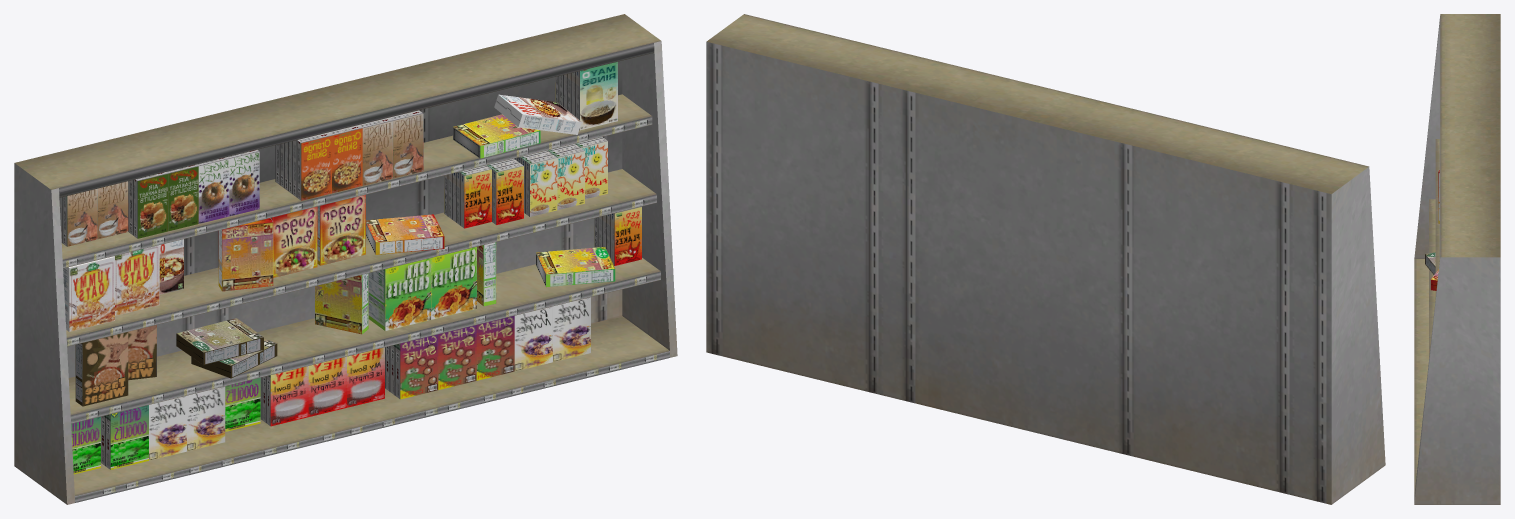
File: storeshelves2.fbx
3 views of the same model, side by side, from view 1: azimuth 30°, elevation 25°; view 2: azimuth 150°, elevation 25°; view 3: azimuth 270°, elevation 25° (orthographic). The views are drawn at different scales.
Visible parts, largest first — view 1: mesh_0, mesh_6, mesh_2, mesh_4, mesh_1, mesh_5, mesh_3; view 2: mesh_0; view 3: mesh_0, mesh_4, mesh_1.
Part boxes in pixels (x1=…): mesh_0: x1=14, y1=14, x2=677, y2=504; mesh_6: x1=59, y1=61, x2=641, y2=474; mesh_2: x1=315, y1=114, x2=615, y2=334; mesh_4: x1=218, y1=194, x2=444, y2=291; mesh_1: x1=75, y1=318, x2=277, y2=406; mesh_5: x1=63, y1=239, x2=183, y2=331; mesh_3: x1=494, y1=94, x2=581, y2=134; mesh_0: x1=706, y1=14, x2=1385, y2=504; mesh_0: x1=1414, y1=14, x2=1500, y2=504; mesh_4: x1=1430, y1=170, x2=1439, y2=290; mesh_1: x1=1425, y1=252, x2=1435, y2=274.
Size of the model in its own units: 400 by 190 by 60.
6 materials, 6 textured.
